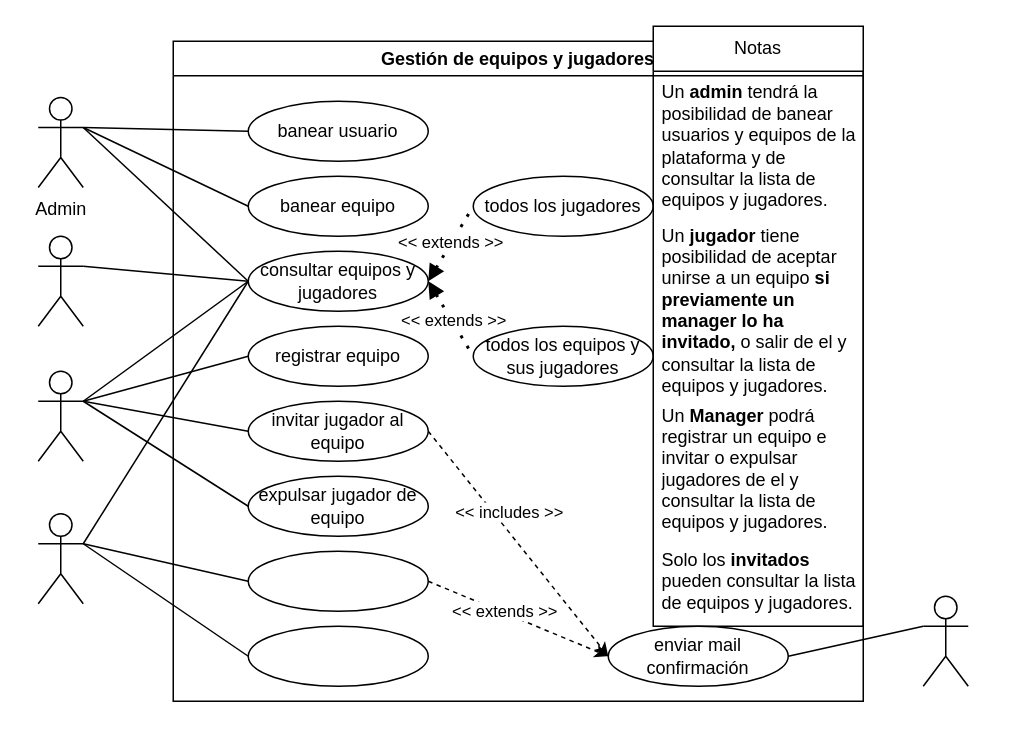
Image size: 1019x744. Some labels were removed from this diagram. The box of each missing label's shape, as (x1, y1, x2, y2) in pixels:
aceptar invitación a un equipo: (247, 550, 428, 611)
invitado: (37, 235, 83, 326)
jugador: (37, 512, 83, 604)
mail service: (922, 595, 968, 686)
manager: (37, 370, 83, 461)
salir de un equipo: (247, 625, 428, 686)
